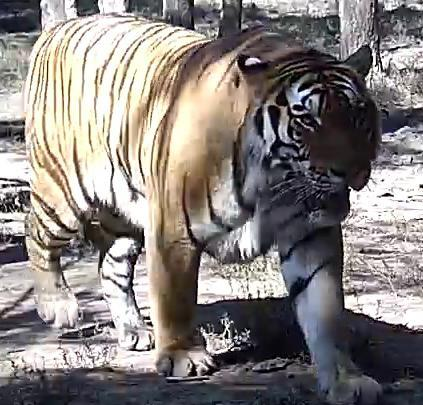tiger: (26, 13, 380, 404)
